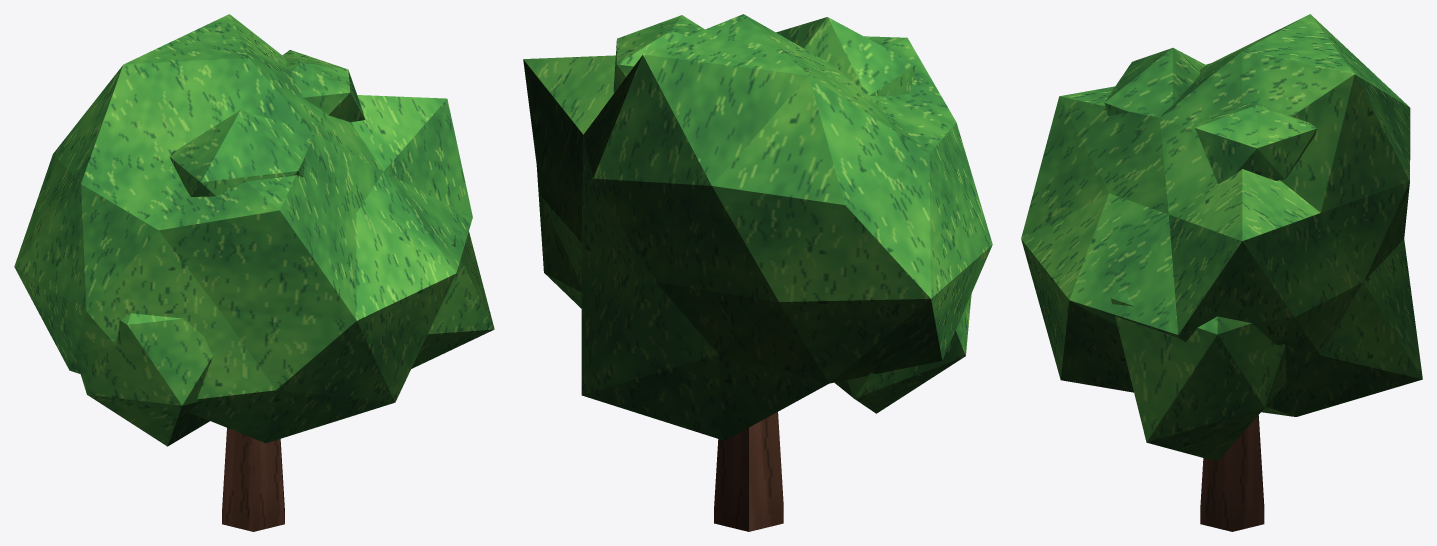
Rendered from bush.glb.
The picture shows the model from 3 angles, left to right: view 1: azimuth 30°, elevation 25°; view 2: azimuth 150°, elevation 25°; view 3: azimuth 270°, elevation 25°; orthographic projection. The views are drawn at different scales.
Parts seen in each view (by area): view 1: bush; view 2: bush; view 3: bush.
Part boxes in pixels (x1,y1,x2,y2): bush: [14, 14, 494, 531]; bush: [523, 14, 992, 531]; bush: [1021, 14, 1422, 531].
Size of the model in its own units: 0.9589 by 1.04 by 0.8136.
4 materials, 4 textured.
